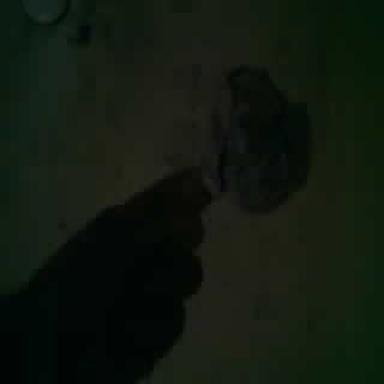paper: (204, 69, 306, 208)
